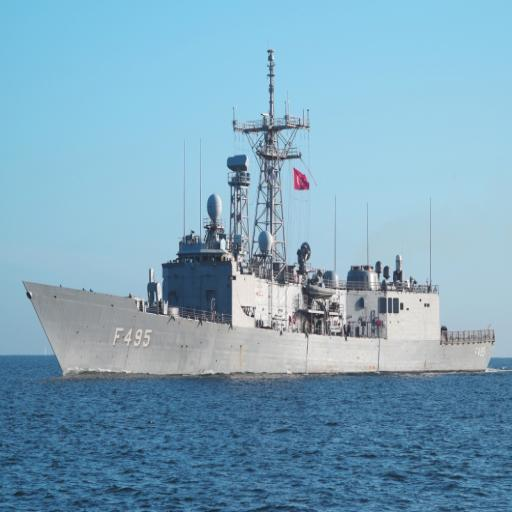Fragata: (21, 38, 500, 389)
